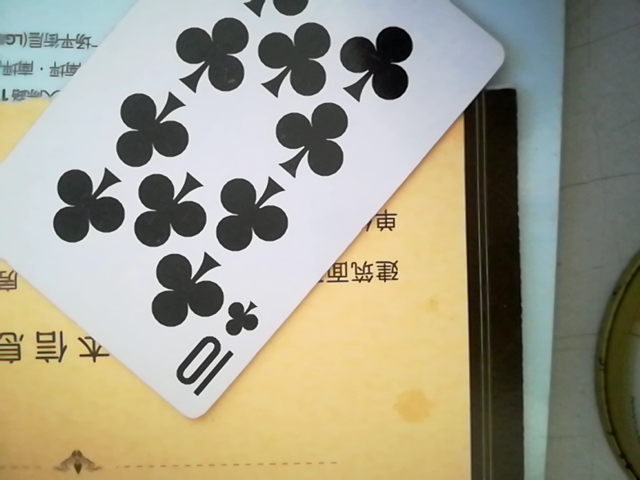mh 10: (0, 1, 524, 426)
